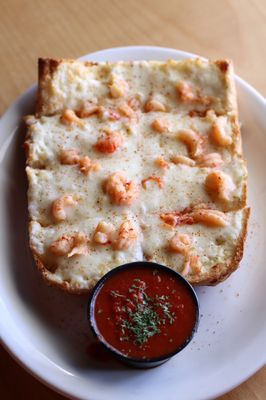curry: (0, 0, 264, 331)
sandwich: (23, 54, 251, 294)
